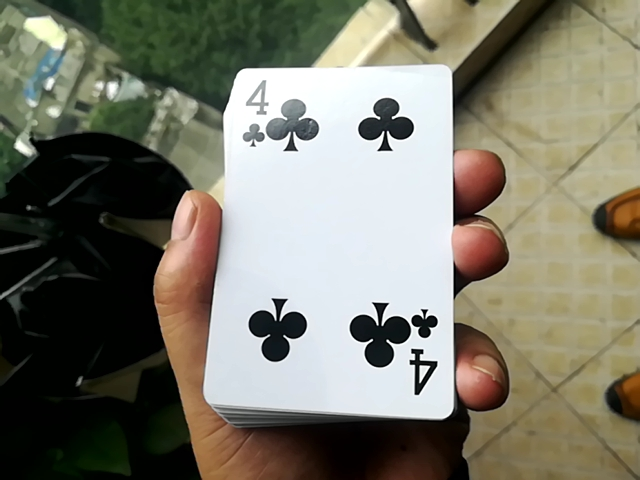mh 4: (196, 55, 456, 422)
